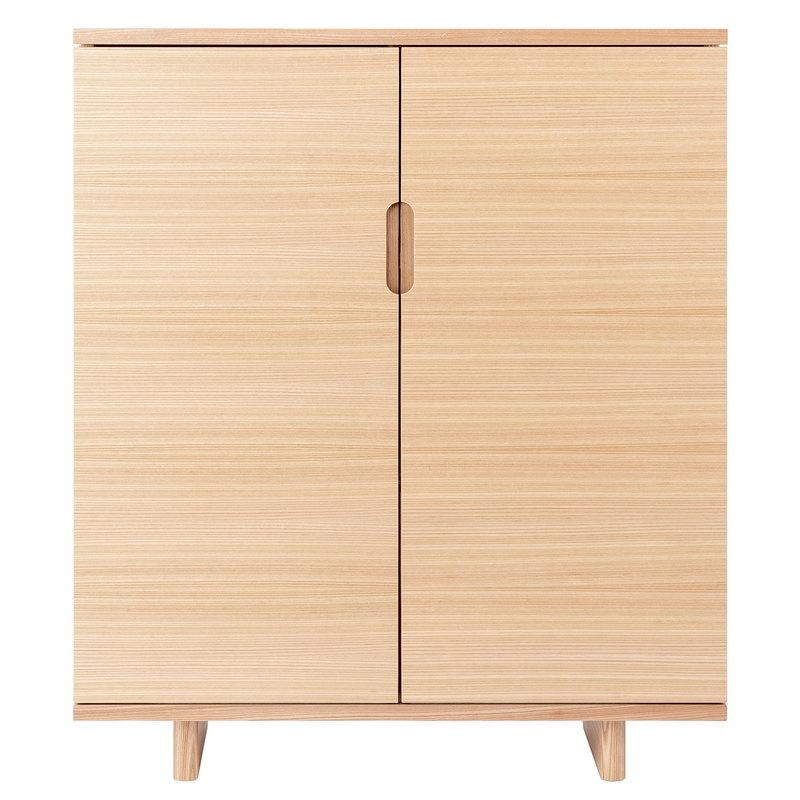cabinet_door: (80, 52, 404, 726), (400, 51, 724, 724)
handle: (399, 197, 419, 294), (382, 197, 402, 293)
